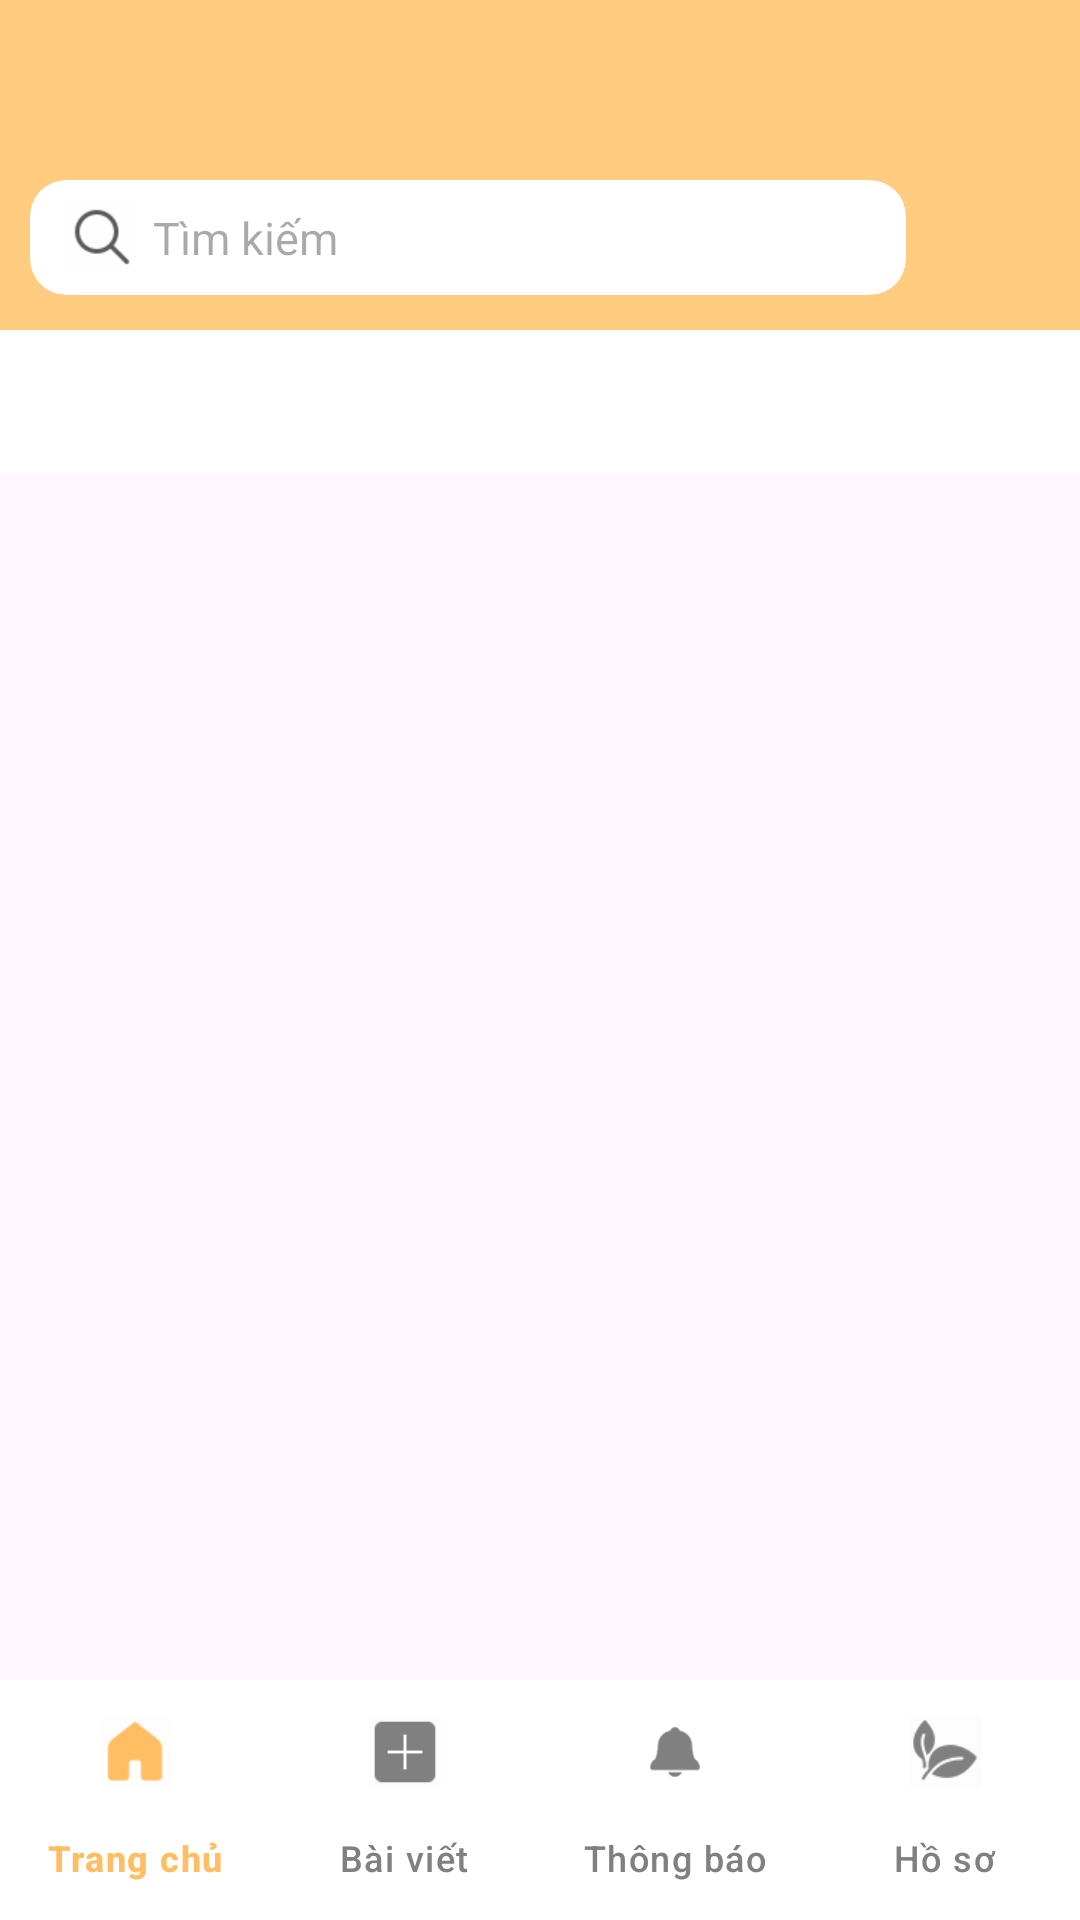

Icons on this 1080×1920 Android screen, each with the point to tap as [x,y]:
search: [102,237]
